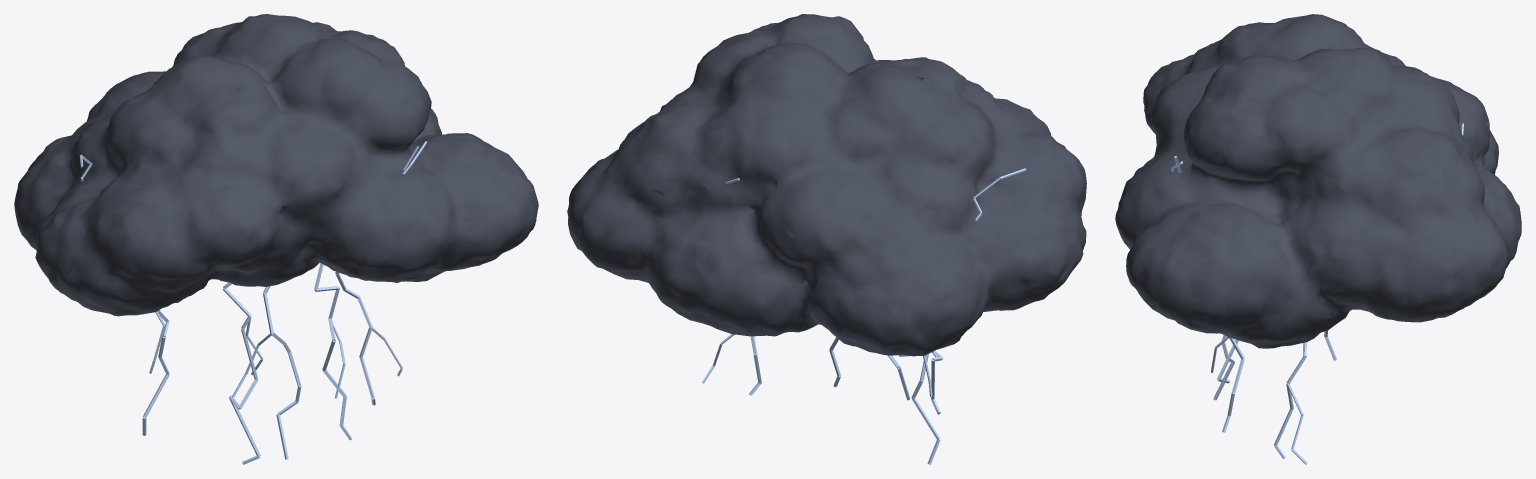
The model's file is storm_cell.obj.
3 views of the same model, side by side, from view 1: azimuth 30°, elevation 25°; view 2: azimuth 150°, elevation 25°; view 3: azimuth 270°, elevation 25° (orthographic).
Parts seen in each view (by area): view 1: storm_cell; view 2: storm_cell; view 3: storm_cell.
Part boxes in pixels (x1=…): storm_cell: x1=14, y1=14, x2=538, y2=464; storm_cell: x1=567, y1=14, x2=1086, y2=464; storm_cell: x1=1115, y1=14, x2=1521, y2=464.
Size of the model in its own units: 1800 by 1482 by 1457.
1 material, 1 textured.
